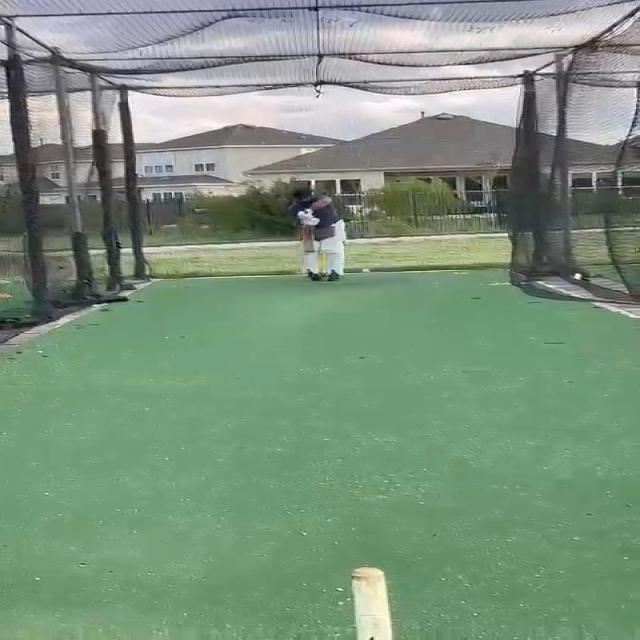batsman: (282, 184, 350, 284)
